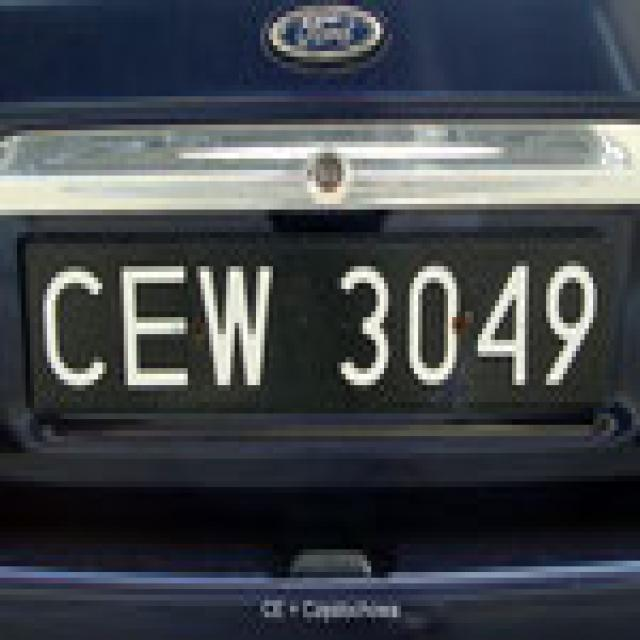pl_license_plate: (25, 238, 606, 413)
